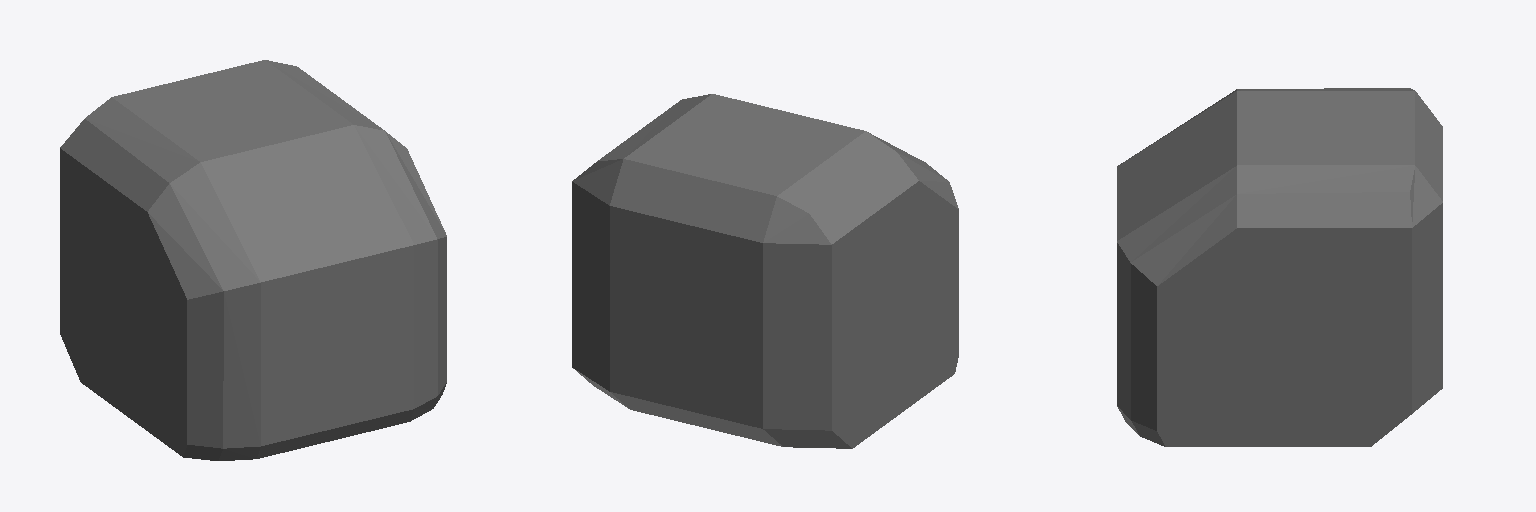
The model's file is turretTEST.obj.
The picture shows the model from 3 angles: view 1: azimuth 30°, elevation 25°; view 2: azimuth 150°, elevation 25°; view 3: azimuth 270°, elevation 25°; orthographic projection.
Visible parts, largest first — view 1: turretTEST:turretTEST1; view 2: turretTEST:turretTEST1; view 3: turretTEST:turretTEST1.
Part boxes in pixels (x1,y1,x2,y2): turretTEST:turretTEST1: (60, 60, 446, 460); turretTEST:turretTEST1: (572, 94, 958, 448); turretTEST:turretTEST1: (1117, 88, 1442, 446).
Size of the model in its own units: 0.5682 by 0.535 by 0.6186.